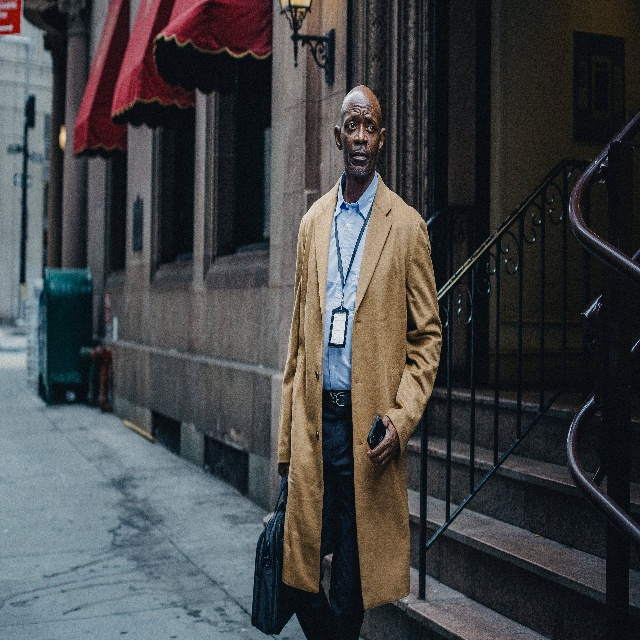Sin_guantes: (366, 413, 401, 470), (277, 460, 290, 482)
